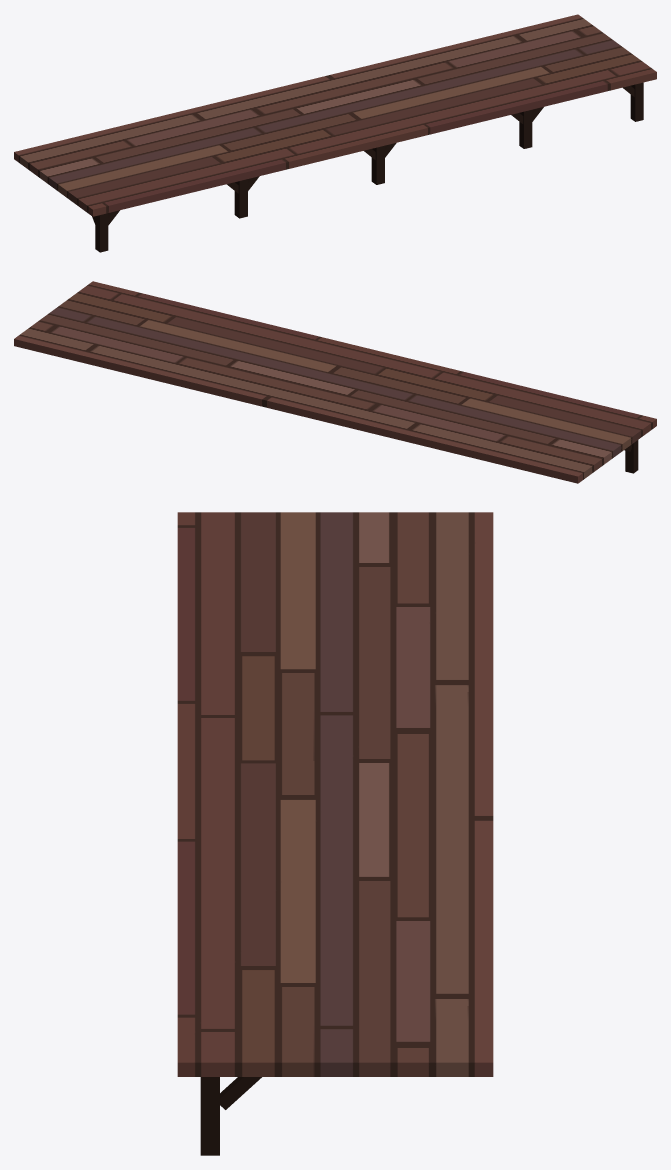
Rendered from Deck 8M v1.glb.
The picture shows the model from 3 angles, top to bottom: view 1: azimuth 30°, elevation 25°; view 2: azimuth 150°, elevation 25°; view 3: azimuth 270°, elevation 25°; orthographic projection. The views are drawn at different scales.
Parts seen in each view (by area): view 1: Deck 8M v1; view 2: Deck 8M v1; view 3: Deck 8M v1.
Part boxes in pixels (box(x1,y1,x2,y2)): Deck 8M v1: box(14, 14, 656, 252); Deck 8M v1: box(14, 281, 656, 483); Deck 8M v1: box(177, 512, 493, 1155).
Size of what is drawn, in the model's own units: 8.26 by 0.7025 by 2.
2 materials, 2 textured.
